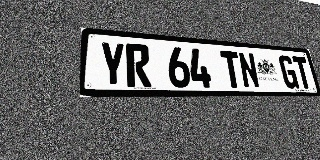4: (188, 48, 212, 88)
6: (166, 46, 191, 88)
G: (278, 55, 299, 89)
N: (237, 52, 260, 88)
R: (126, 43, 152, 87)
T: (220, 50, 243, 88), (292, 56, 313, 89)
Y: (99, 41, 126, 87)
